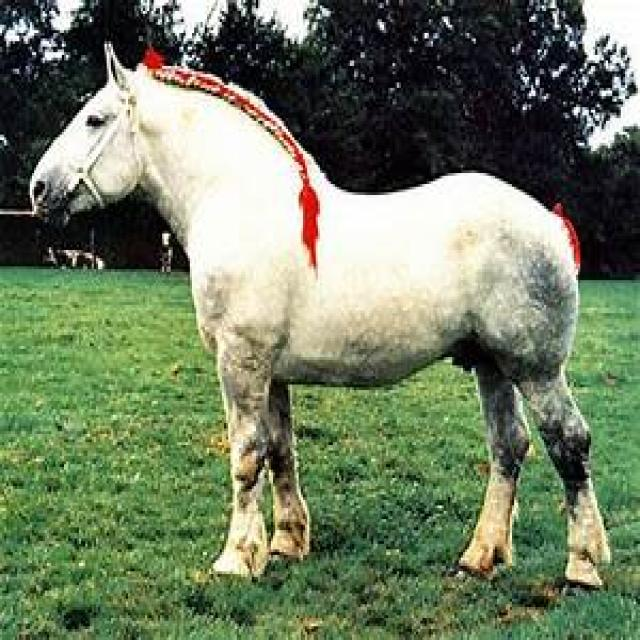horse: (32, 45, 610, 585)
